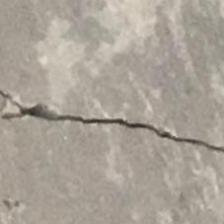Crack: (0, 86, 224, 169)
